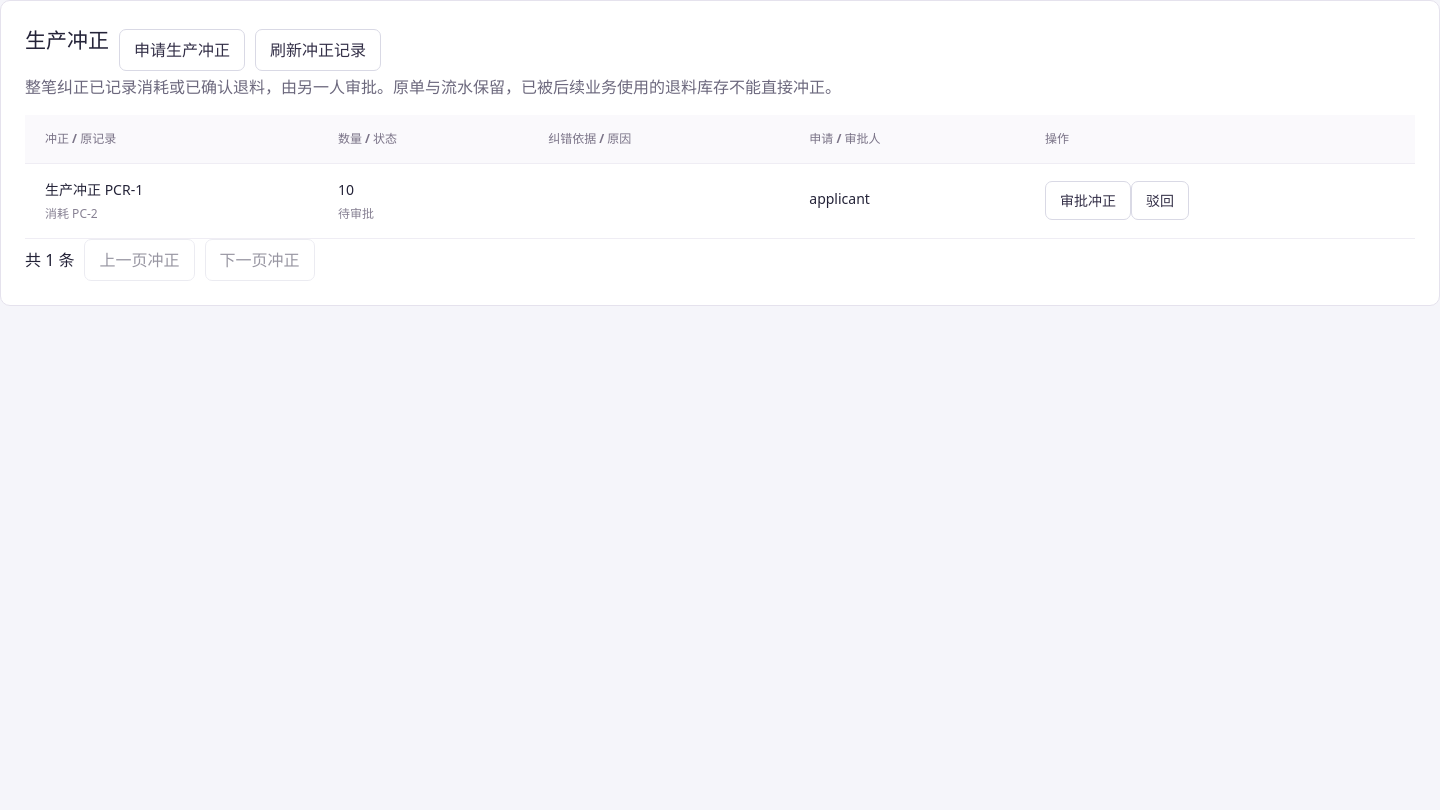
Test case: notifies the parent after successful approval even when reloading records fails
Click the button "审批冲正": x=1088, y=200 top-left (1045, 181), bottom-right (1131, 220)
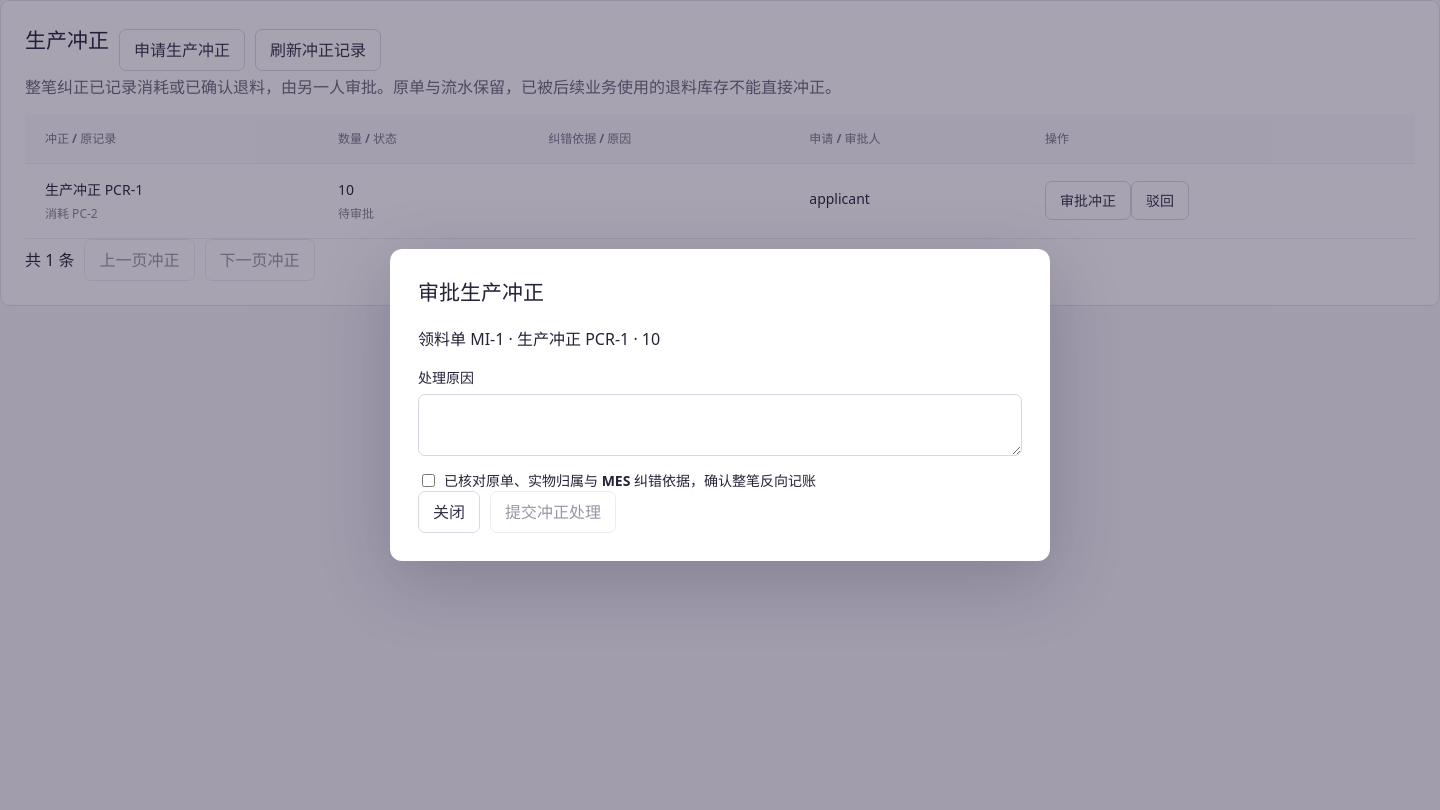
In the text box labelled "处理原因": x=720, y=425 top-left (418, 394), bottom-right (1022, 456), type "实物与原流水已核对"
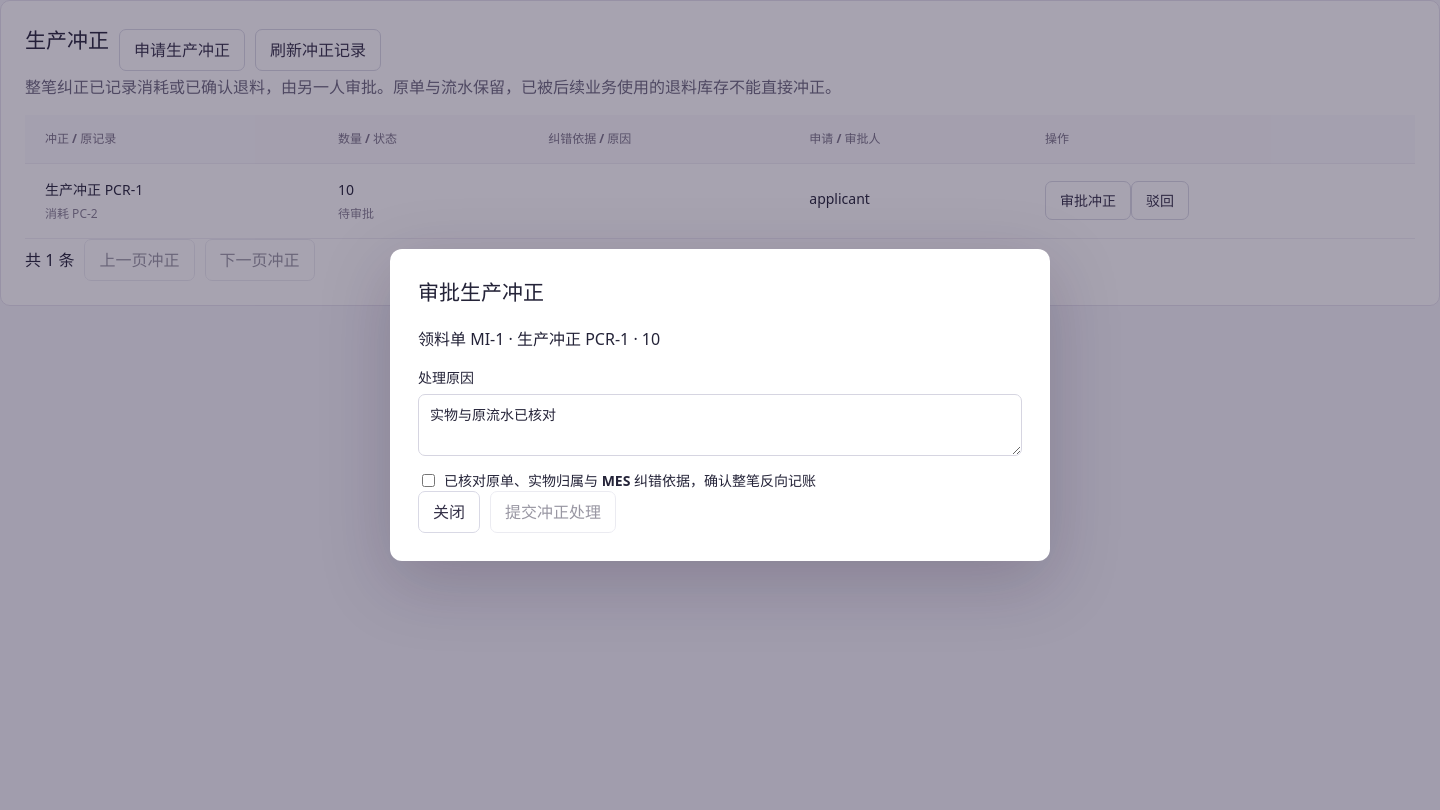
Click the checkbox labelled "已核对原单、实物归属与 MES 纠错依据，确认整笔反向记账": x=428, y=480 top-left (422, 474), bottom-right (435, 487)
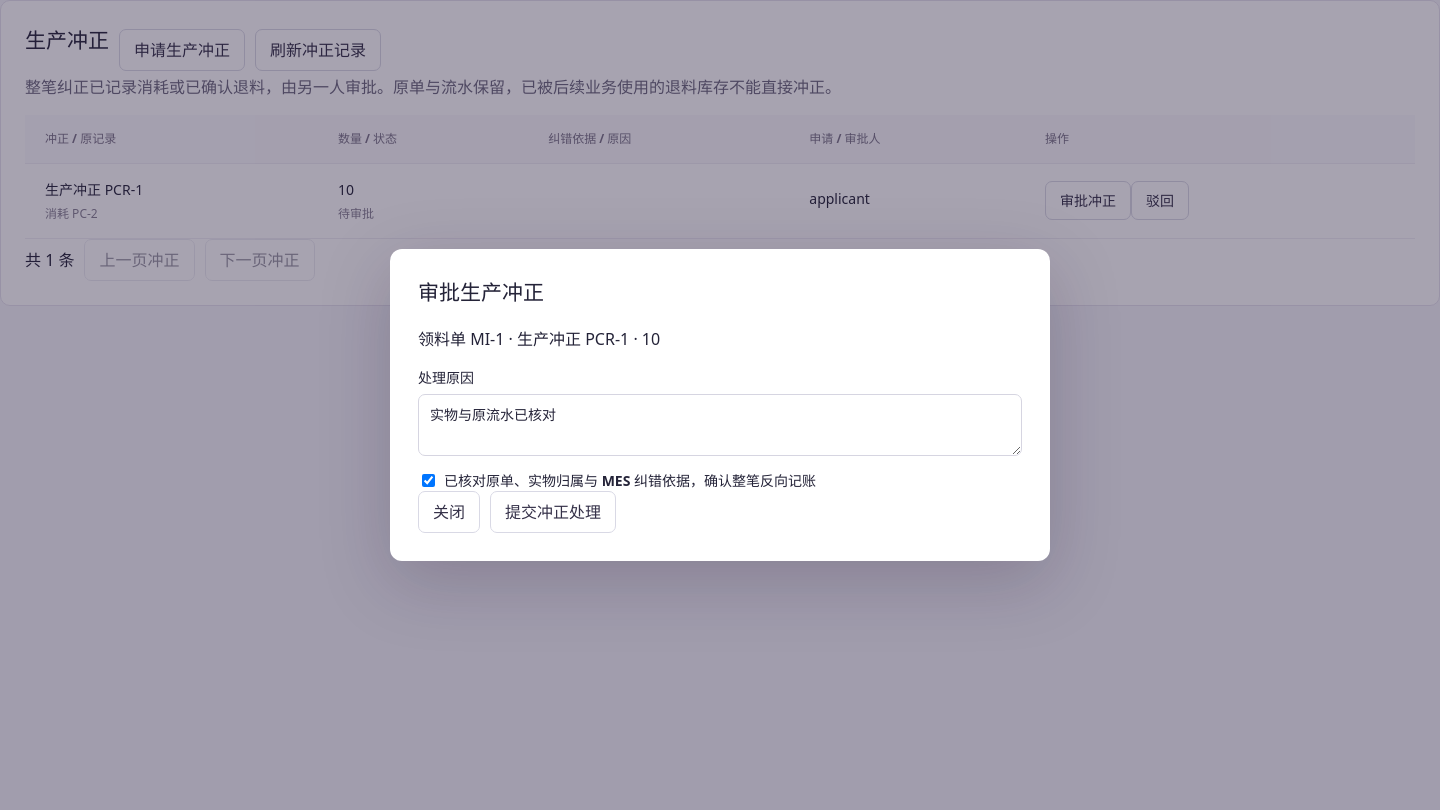
Submit the form, box top-left (418, 367), bottom-right (1022, 533)
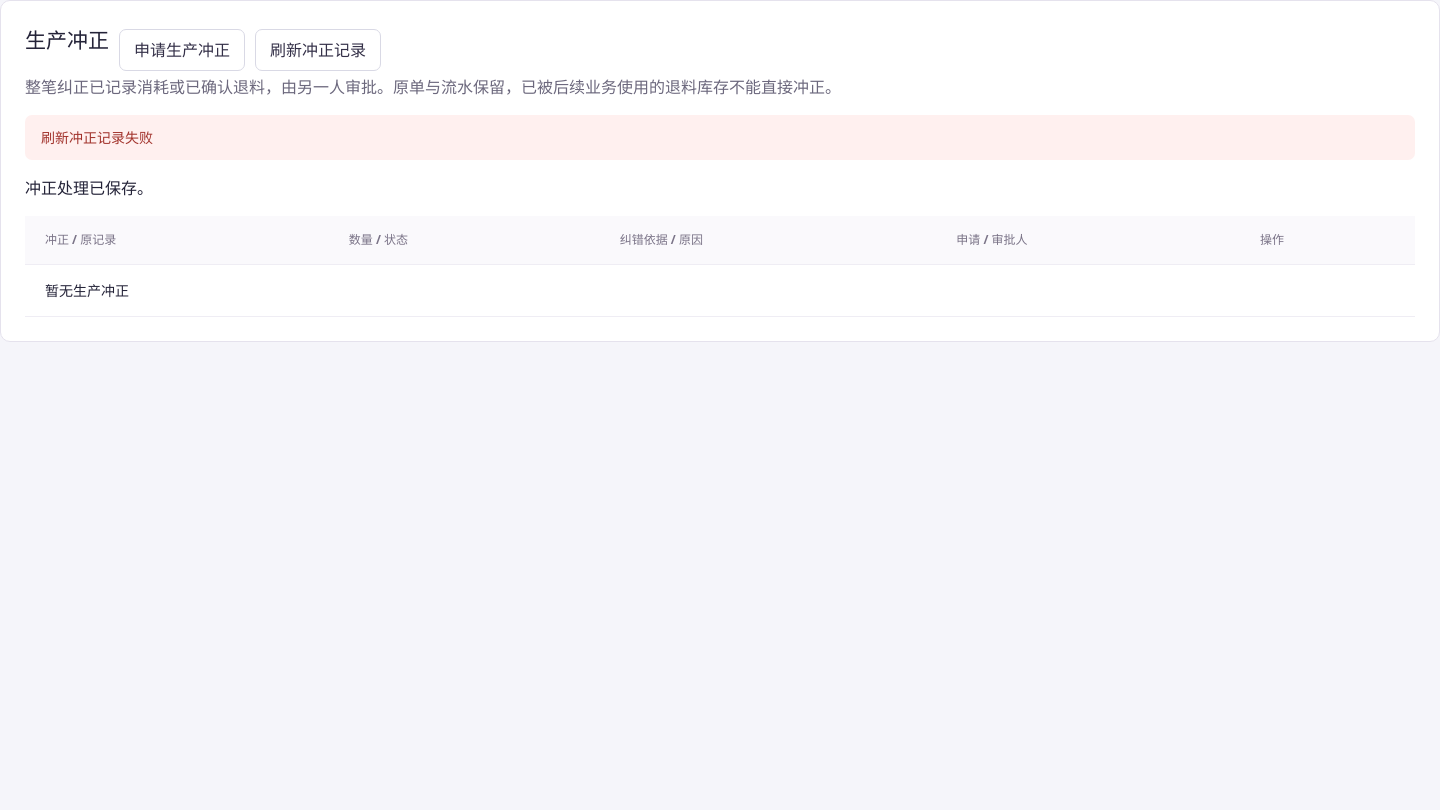
Expected: the text "刷新冲正记录失败" is shown, top-left (25, 114), bottom-right (1415, 160)
Expected: the text "冲正处理已保存。" is shown, top-left (25, 176), bottom-right (153, 198)
Expected: the text "待审批" is gone
